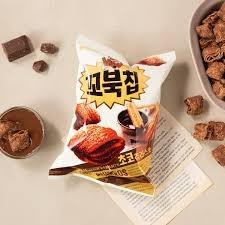snack: (47, 33, 178, 197)
